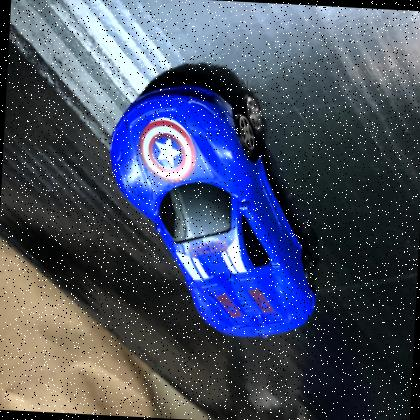Car: (108, 68, 316, 336)
